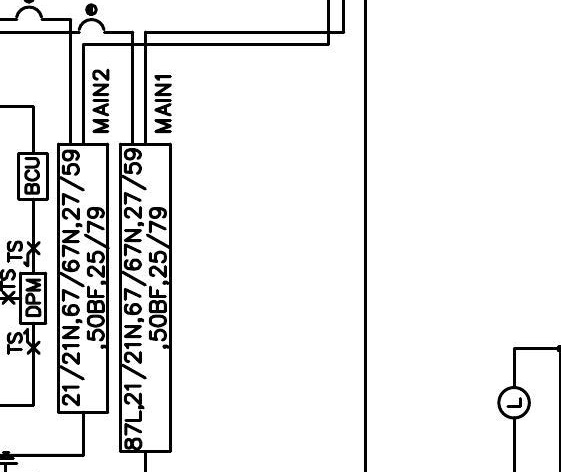BCU: (16, 151, 50, 202)
DPM: (18, 272, 48, 326)
